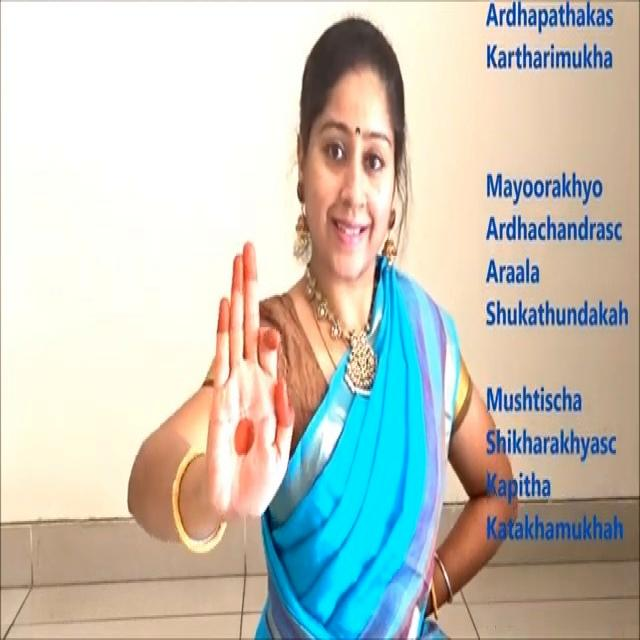Arala: (196, 236, 300, 526)
lady: (279, 22, 417, 283)
text: (482, 366, 630, 557), (481, 163, 632, 332), (479, 2, 624, 82)
